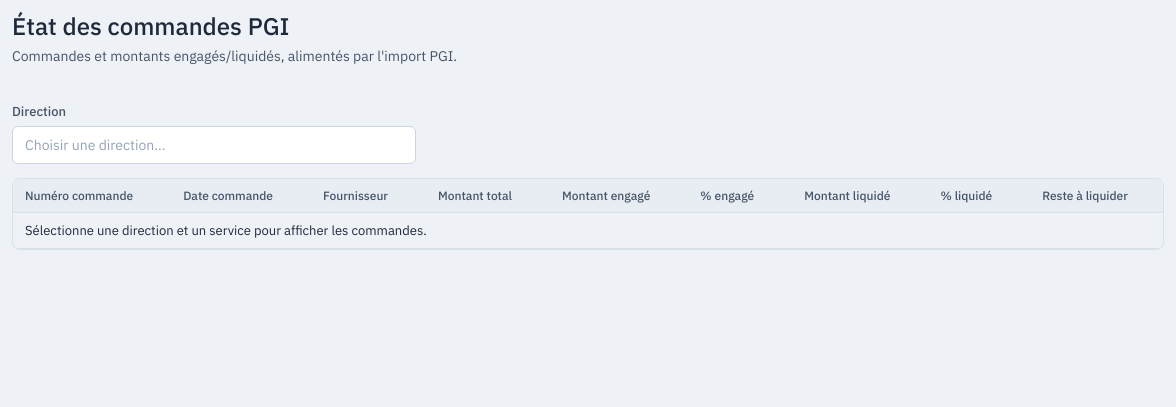
Test case: CommandesPGI › affiche les commandes du service une fois direction et service choisis
This screenshot has width=1176, height=407.
Click the button with aria-label "Filtrer par direction": (95, 145) [12,126,416,164]
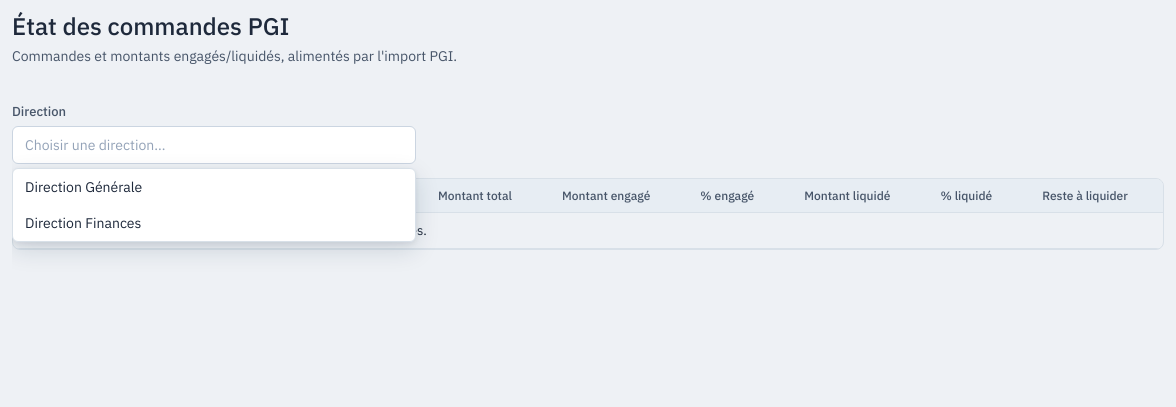
Click the text "Direction Générale": (84, 187) [25,178,142,196]
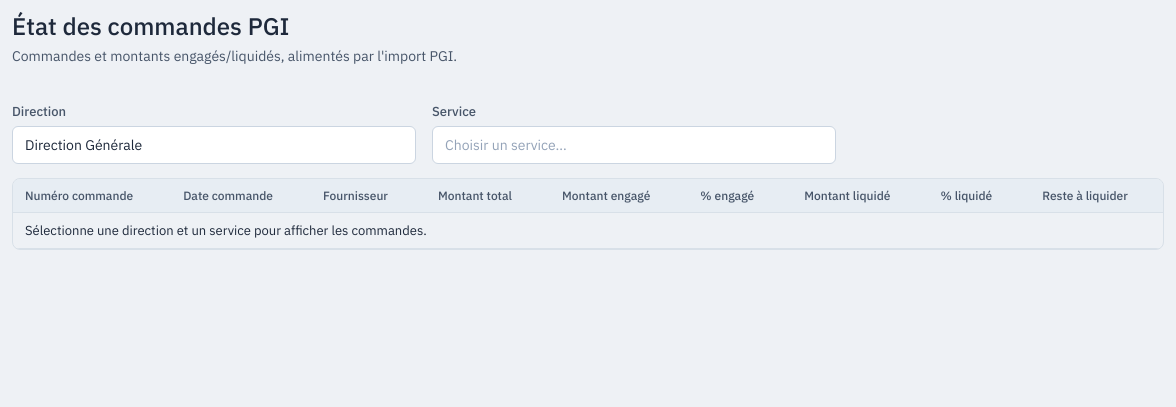
Click the button with aria-label "Filtrer par service": (506, 145) [432,126,836,164]
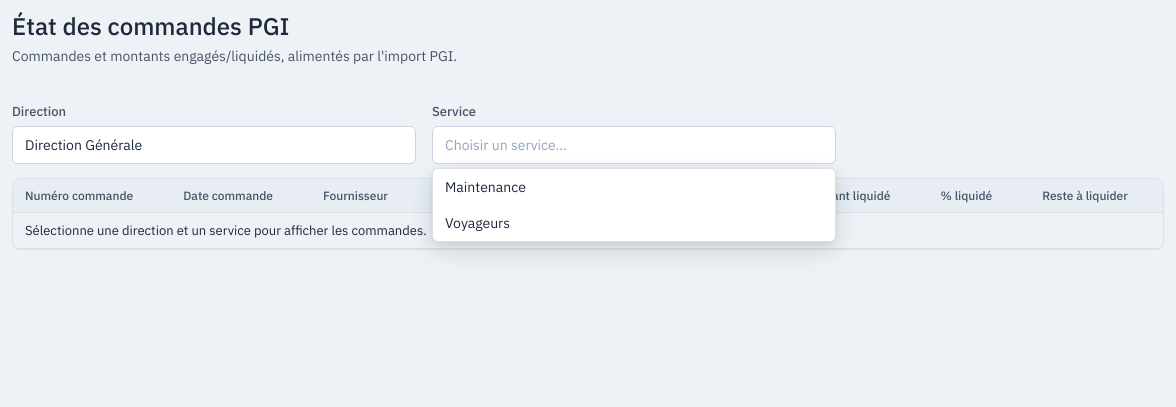
Click the text "Maintenance": (485, 187) [445,178,526,196]
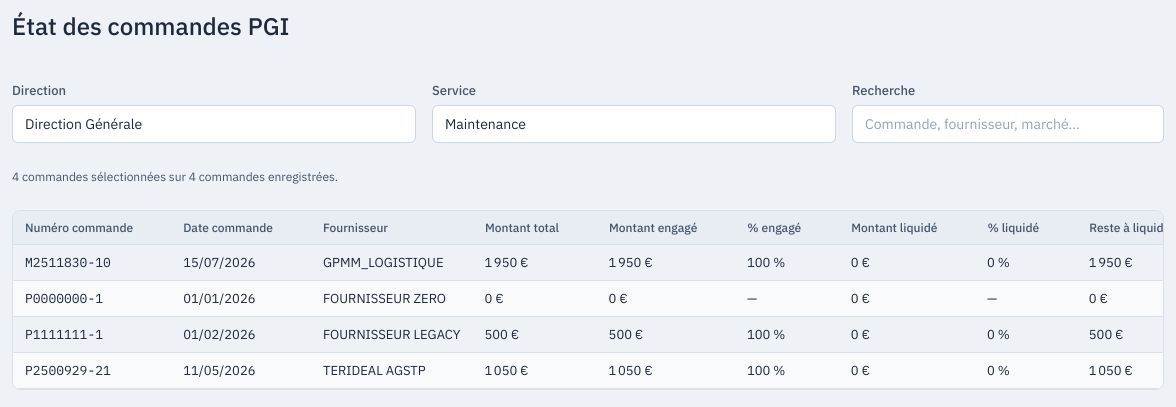
Expected: the text "P2500929-21" is shown, [13,353,171,389]
Expected: the text "TERIDEAL AGSTP" is shown, [311,353,472,389]
Expected: the text "M2511830-10" is shown, [13,245,171,281]
